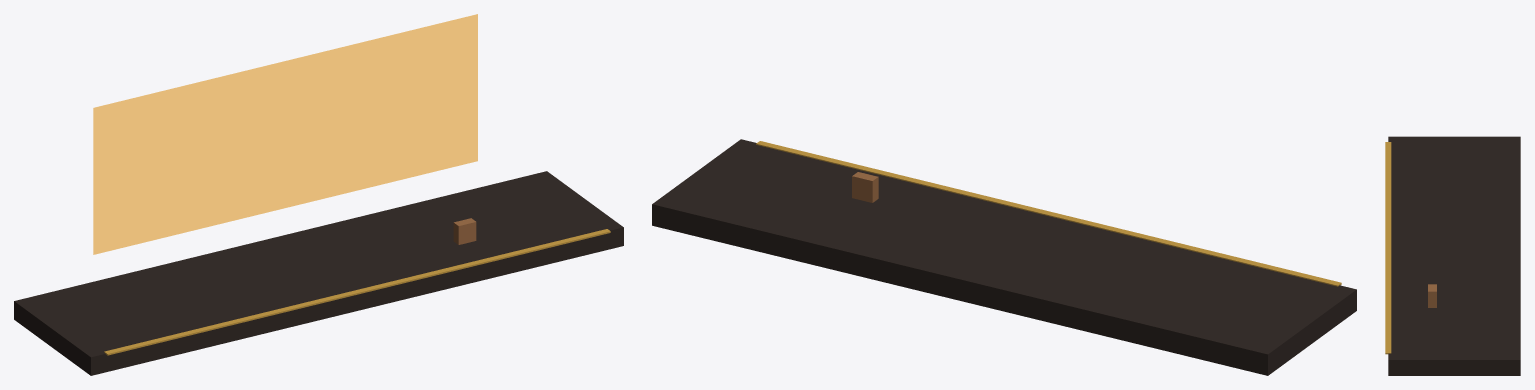
The model's file is stage.glb.
3 renders of one model, left to right at view 1: azimuth 30°, elevation 25°; view 2: azimuth 150°, elevation 25°; view 3: azimuth 270°, elevation 25°, orthographic. The views are drawn at different scales.
Visible parts, largest first — view 1: LEDScreen, Stage, Gilt, AcousticWood; view 2: Stage, Gilt, AcousticWood; view 3: Stage, Gilt, AcousticWood.
Part boxes in pixels (box(x1,y1,x2,y2)): LEDScreen: box(93, 14, 477, 254); Stage: box(14, 171, 623, 375); Gilt: box(104, 229, 610, 355); AcousticWood: box(453, 218, 476, 244); Stage: box(652, 139, 1356, 375); Gilt: box(756, 141, 1341, 286); AcousticWood: box(852, 172, 878, 202); Stage: box(1388, 136, 1520, 375); Gilt: box(1385, 142, 1391, 354); AcousticWood: box(1428, 284, 1436, 307).
Size of the model in its own units: 36 by 12.75 by 9.2.
